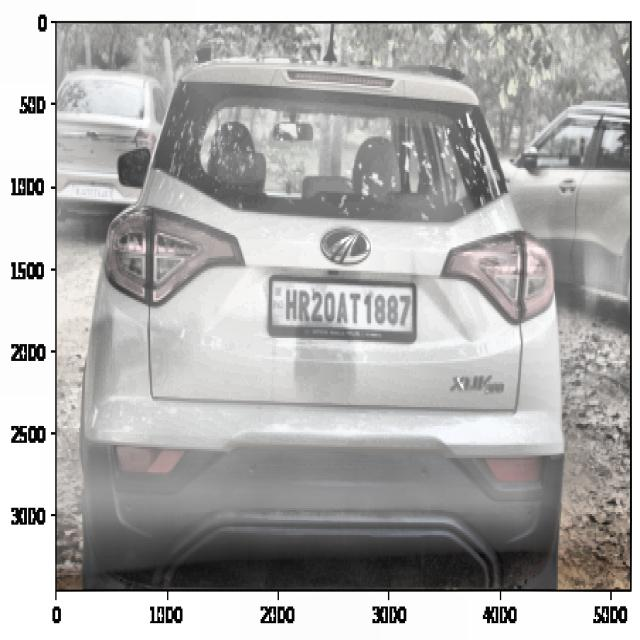license_plate: (275, 280, 416, 344)
